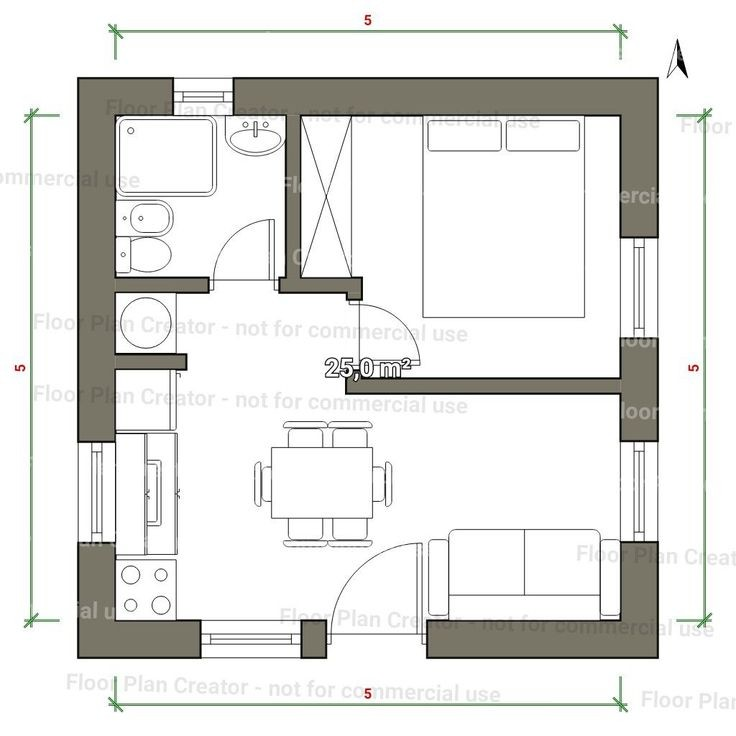door: (327, 536, 429, 635), (351, 299, 430, 380), (202, 212, 281, 288)
room: (290, 71, 669, 405), (72, 288, 354, 663), (354, 394, 666, 672), (66, 71, 315, 298)
wall: (230, 69, 662, 131), (72, 65, 121, 443), (421, 615, 665, 668), (344, 365, 622, 411), (613, 66, 662, 236), (73, 609, 200, 674), (74, 65, 174, 125), (620, 533, 667, 660), (72, 539, 119, 663), (615, 333, 666, 443), (279, 109, 307, 281), (272, 271, 367, 307), (107, 274, 212, 304), (111, 349, 193, 378), (293, 609, 328, 661)
window: (198, 623, 306, 656), (627, 440, 653, 544), (630, 240, 652, 340), (85, 447, 108, 541), (174, 88, 230, 117)
